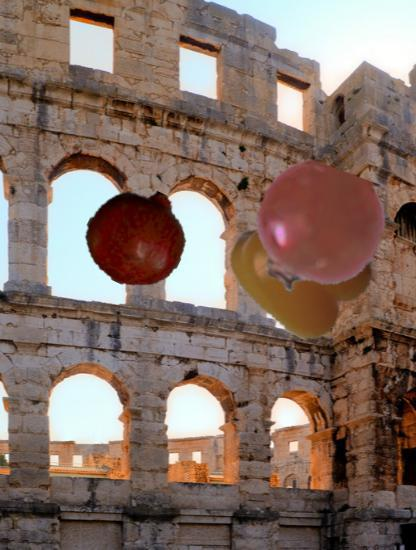Pepper: (232, 187, 377, 332)
Pomegranate: (87, 187, 187, 287)
Redcurrant: (251, 166, 382, 297)
